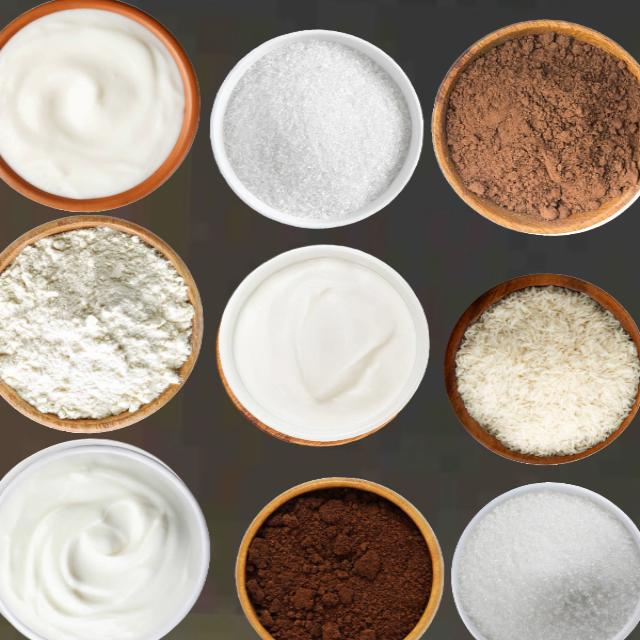Cocoa: (444, 28, 639, 221)
Coffee: (242, 483, 435, 639)
Flour: (0, 224, 194, 420)
Sugar: (221, 37, 411, 219), (431, 475, 640, 640)
